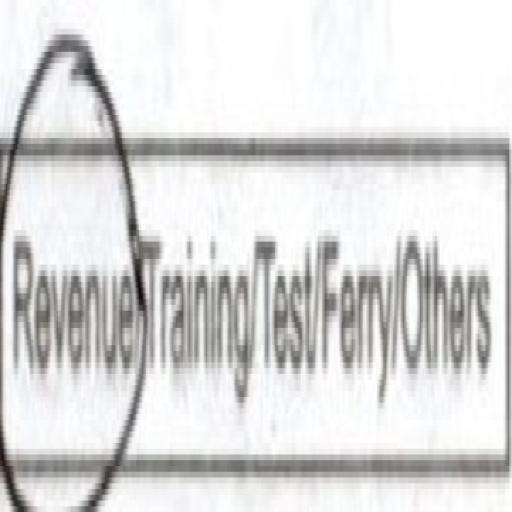check: (0, 4, 137, 512)
